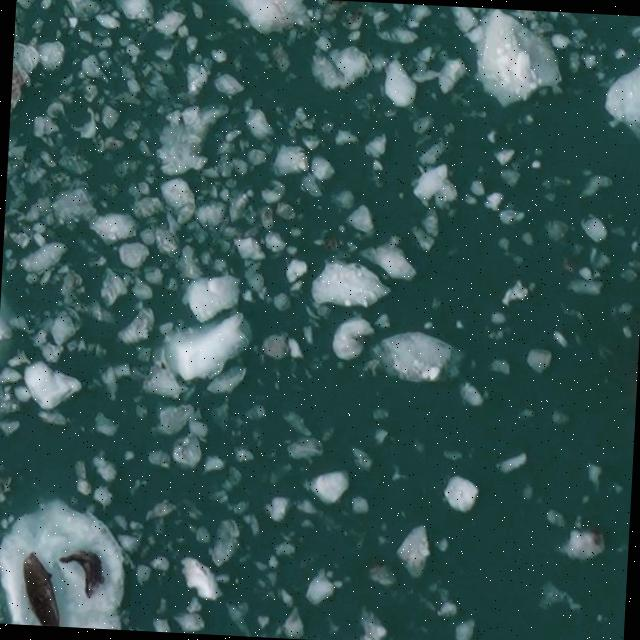seal: (15, 550, 64, 633), (62, 546, 110, 602)
